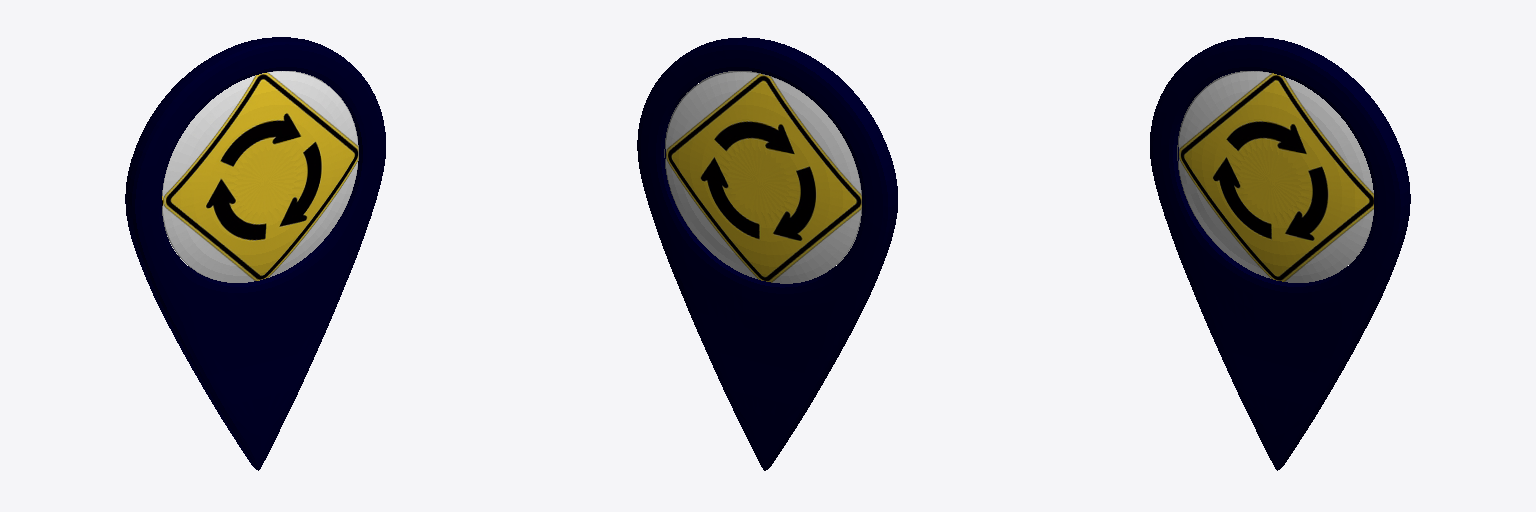
The picture shows the model from 3 angles: view 1: azimuth 30°, elevation 25°; view 2: azimuth 150°, elevation 25°; view 3: azimuth 330°, elevation 25°; orthographic projection.
Parts seen in each view (by area): view 1: Circle.033_Circle.008, Circle.021_Circle.038; view 2: Circle.033_Circle.008, Circle.021_Circle.038; view 3: Circle.033_Circle.008, Circle.021_Circle.038.
Part boxes in pixels (x1,y1,x2,y2): Circle.033_Circle.008: (125, 37, 385, 470); Circle.021_Circle.038: (162, 71, 358, 282); Circle.033_Circle.008: (637, 37, 897, 470); Circle.021_Circle.038: (664, 71, 861, 283); Circle.033_Circle.008: (1150, 37, 1410, 470); Circle.021_Circle.038: (1177, 71, 1373, 282).
Size of the model in its own units: 2.69 by 4.3 by 0.3594.
2 materials, 1 textured.